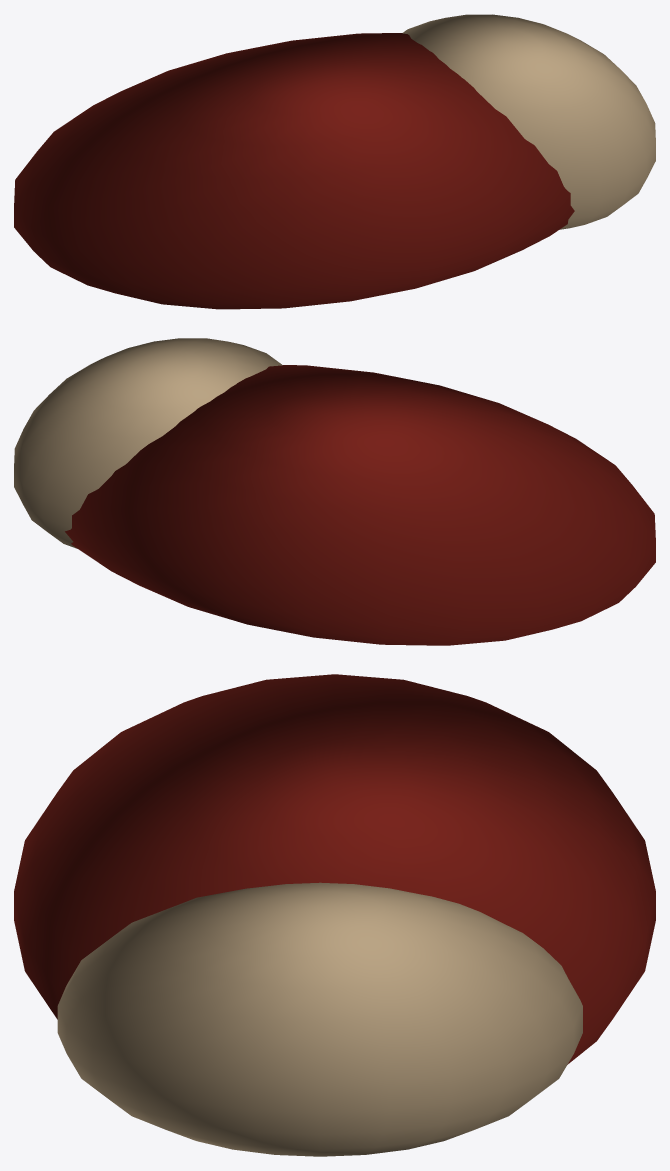
Rendered from raw_meat.glb.
The picture shows the model from 3 angles, top to bottom: view 1: azimuth 30°, elevation 25°; view 2: azimuth 150°, elevation 25°; view 3: azimuth 270°, elevation 25°; orthographic projection. The views are drawn at different scales.
Visible parts, largest first — view 1: BatchedSurface, _MeshInstance3D_2; view 2: BatchedSurface, _MeshInstance3D_2; view 3: BatchedSurface, _MeshInstance3D_2.
Boxes of the visible parts, box(x1,y1,x2,y2) form: BatchedSurface: box(14, 33, 574, 309); _MeshInstance3D_2: box(402, 14, 655, 229); BatchedSurface: box(65, 365, 655, 645); _MeshInstance3D_2: box(14, 338, 282, 548); BatchedSurface: box(14, 674, 655, 1064); _MeshInstance3D_2: box(57, 882, 582, 1156).
Size of the model in its own units: 0.3234 by 0.091 by 0.2184.
